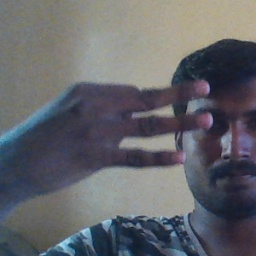K: (12, 80, 213, 184)
